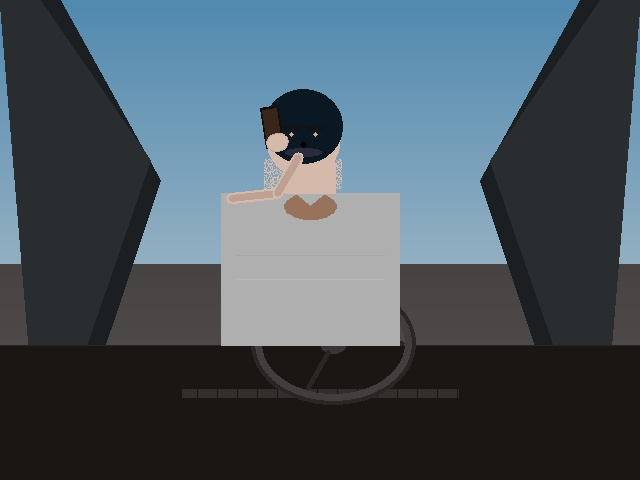phone_usage: (255, 98, 289, 155)
